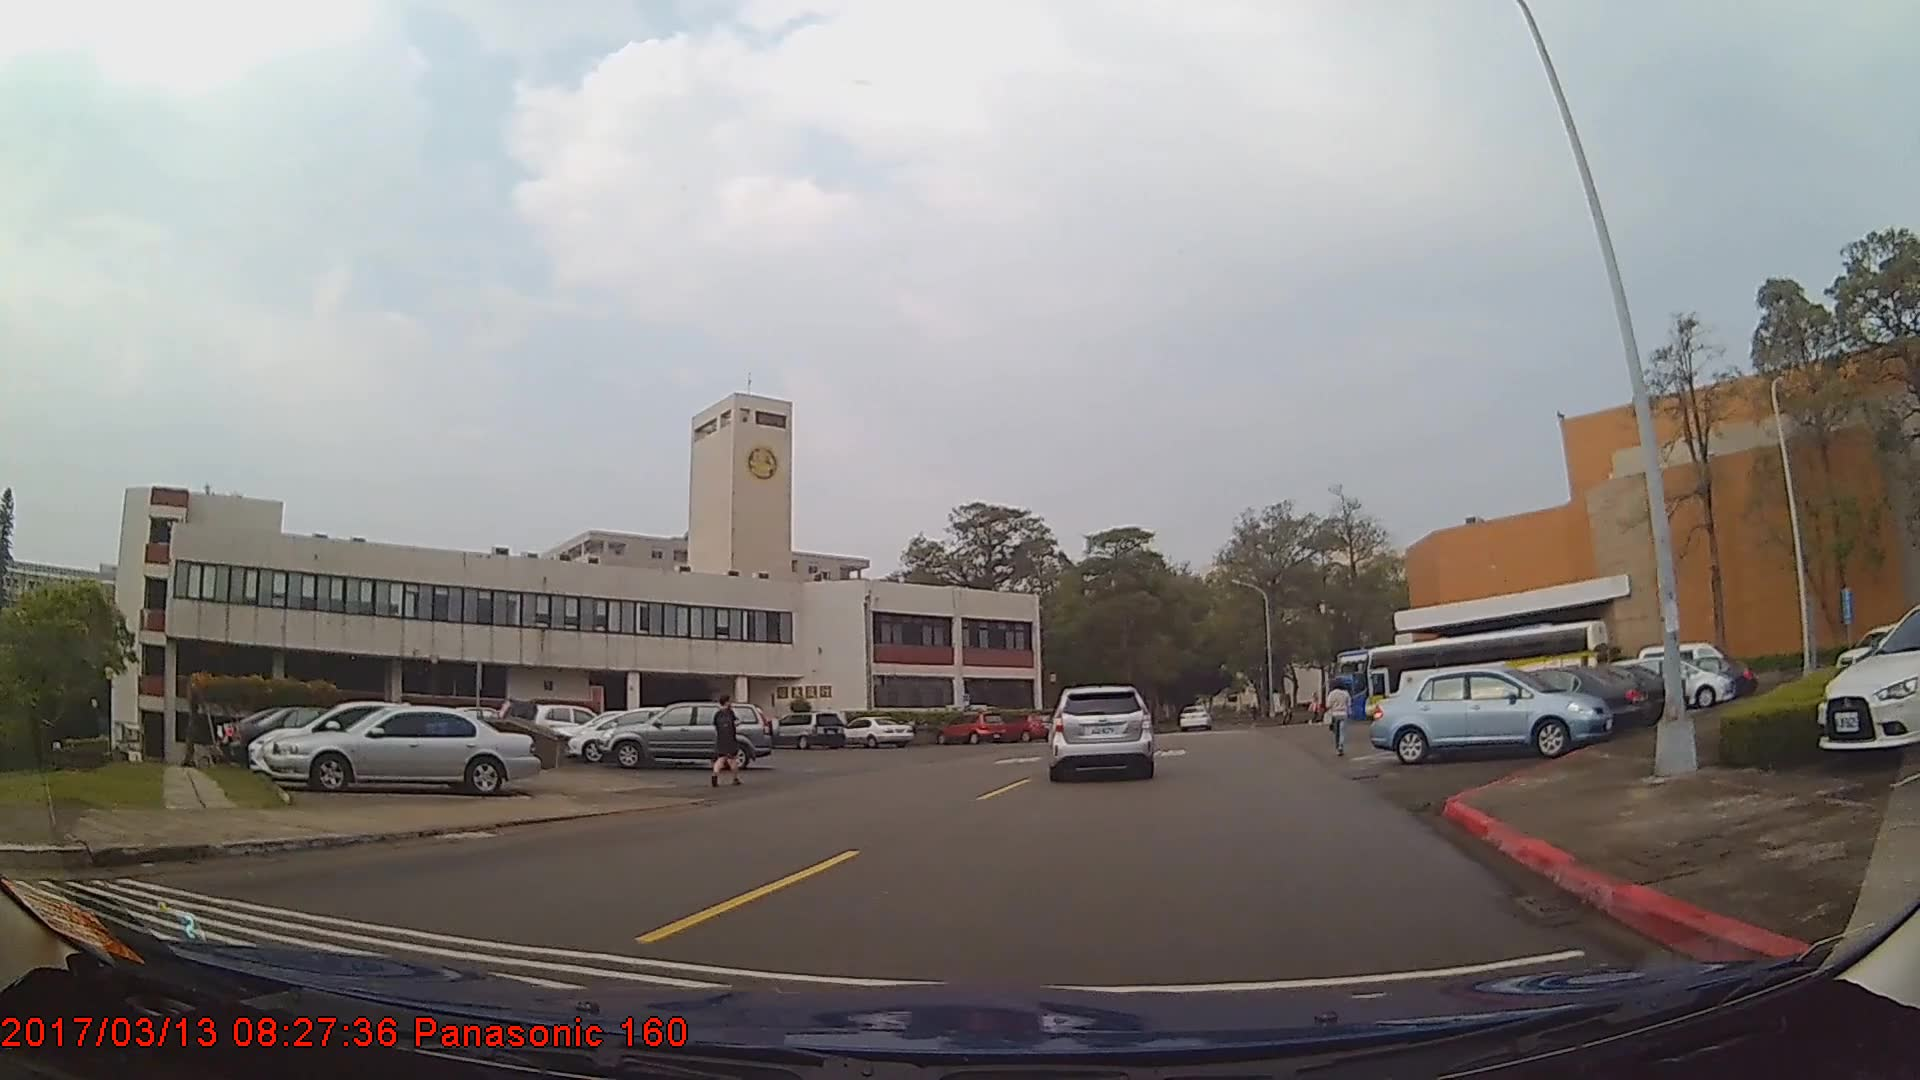pedestrian: (710, 695, 742, 785), (1325, 677, 1356, 757)
vehicle: (265, 703, 542, 794), (1369, 665, 1612, 765), (245, 698, 474, 781), (1440, 664, 1653, 736), (1818, 604, 1920, 749), (595, 699, 781, 767), (228, 704, 421, 768), (1047, 683, 1153, 782), (1512, 664, 1686, 723), (567, 704, 712, 764), (532, 700, 614, 748), (769, 709, 846, 751), (935, 708, 1009, 745), (838, 714, 914, 747), (1177, 703, 1212, 731)
